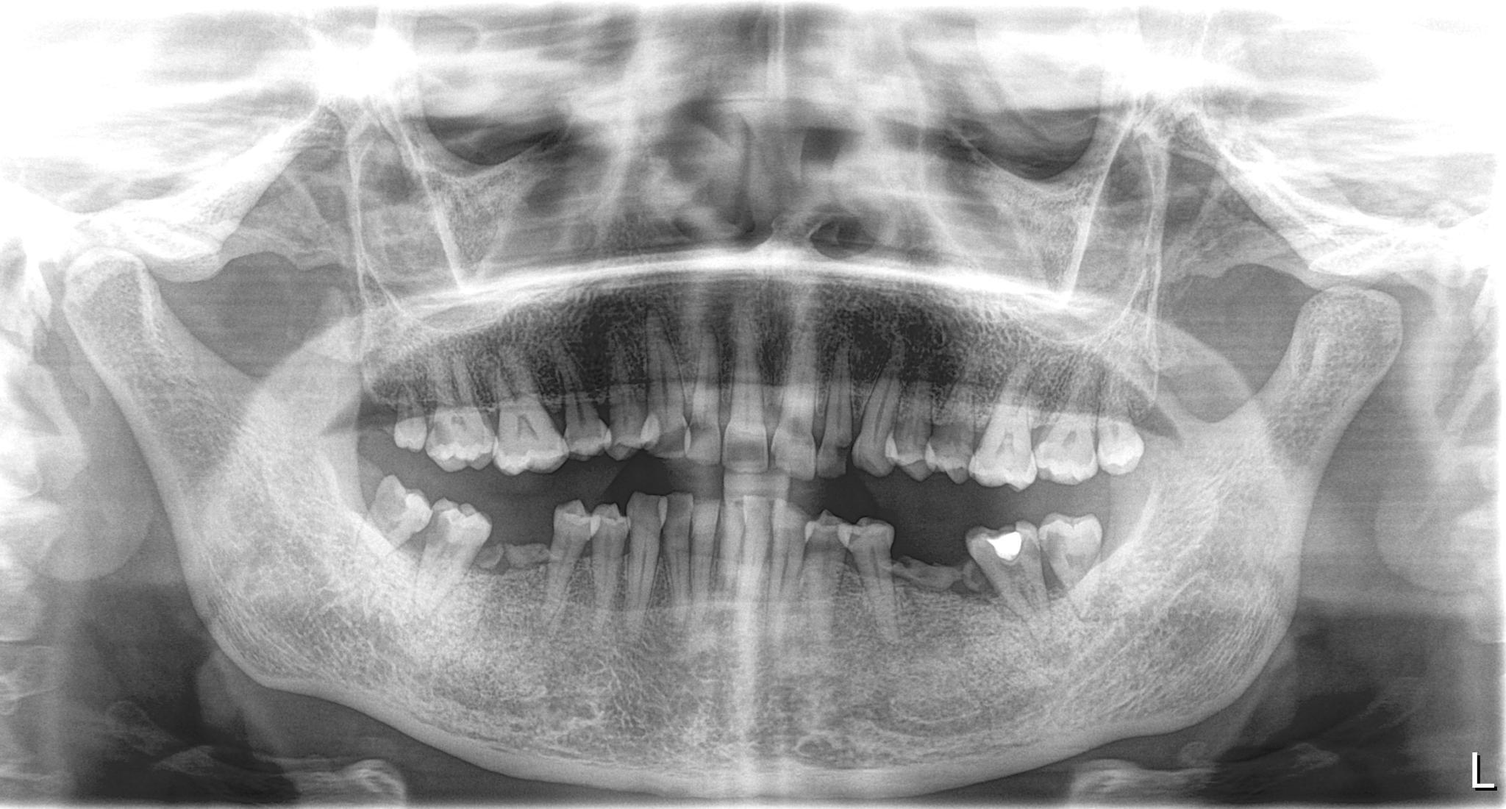Dental Caries: (636, 427, 699, 461), (721, 432, 771, 464)
Missing Tooth: (893, 526, 977, 625), (495, 526, 551, 616), (1099, 491, 1145, 576), (351, 392, 393, 463)
